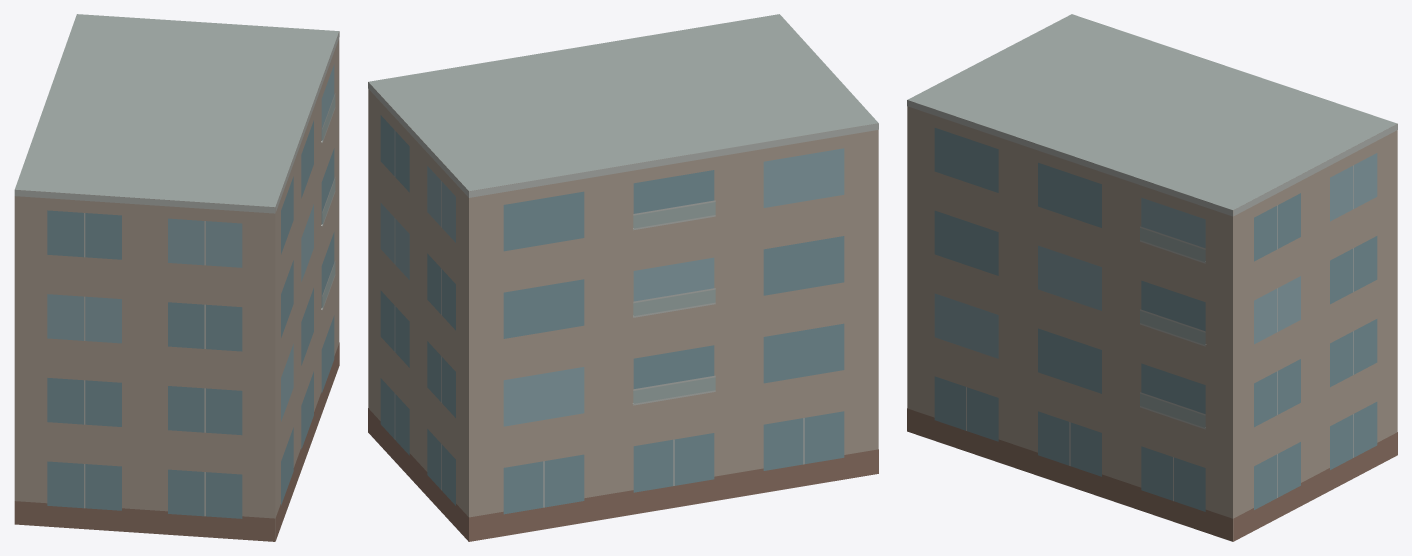
Rendered from survey-upis-32934400.glb.
3 views of the same model, side by side, from view 1: azimuth 30°, elevation 25°; view 2: azimuth 150°, elevation 25°; view 3: azimuth 270°, elevation 25° (orthographic). The views are drawn at different scales.
Visible parts, largest first — view 1: survey-upis-32934400.tmp; view 2: survey-upis-32934400.tmp; view 3: survey-upis-32934400.tmp.
Part boxes in pixels (x1=…): survey-upis-32934400.tmp: x1=14, y1=14, x2=339, y2=541; survey-upis-32934400.tmp: x1=368, y1=14, x2=878, y2=541; survey-upis-32934400.tmp: x1=907, y1=14, x2=1397, y2=541.
Bounding box in the file's own units: 16.26 × 12.8 × 17.17.
